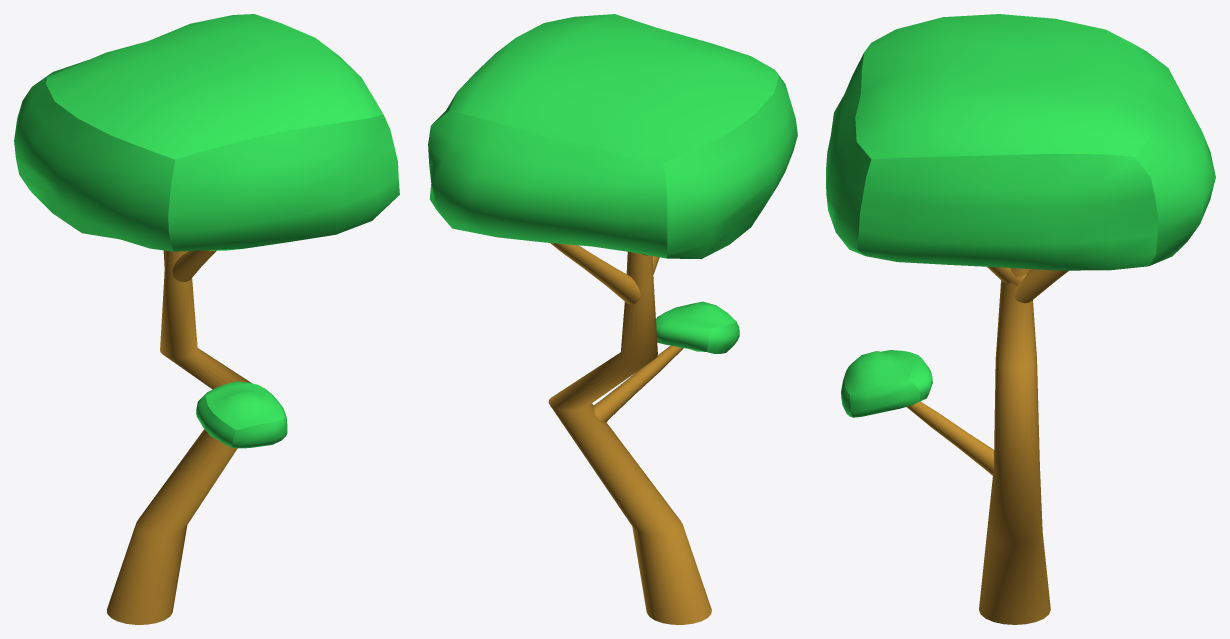
The model's file is basic tree_02.fbx.
3 views of the same model, side by side, from view 1: azimuth 30°, elevation 25°; view 2: azimuth 150°, elevation 25°; view 3: azimuth 270°, elevation 25° (orthographic). The views are drawn at different scales.
Visible parts, largest first — view 1: Leaves_main, Tree_Body1, leaves_01, branch02; view 2: Leaves_main, Tree_Body1, leaves_01, branch06, branch05; view 3: Leaves_main, Tree_Body1, leaves_01, branch05, branch06.
Part boxes in pixels (x1,y1,x2,y2): Leaves_main: (14,14,399,251); Tree_Body1: (106,250,251,624); leaves_01: (196,381,287,448); branch02: (172,250,216,281); Leaves_main: (428,14,797,259); Tree_Body1: (548,251,711,624); leaves_01: (656,301,739,353); branch06: (550,243,640,304); branch05: (593,345,683,422); Leaves_main: (826,14,1215,270); Tree_Body1: (979,268,1050,624); leaves_01: (841,350,932,417); branch05: (907,401,994,475); branch06: (1014,269,1068,303).
Size of the model in its own units: 20.63 by 35.67 by 21.54.
